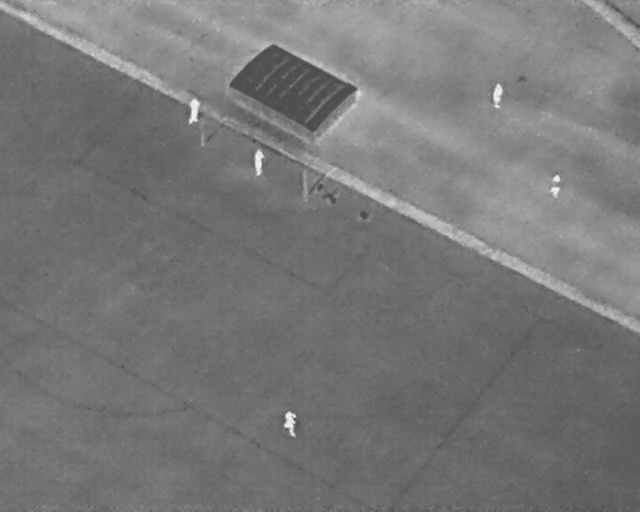Person: (280, 409, 299, 439), (546, 171, 565, 200), (251, 147, 266, 178), (186, 95, 201, 125), (490, 80, 504, 109)
